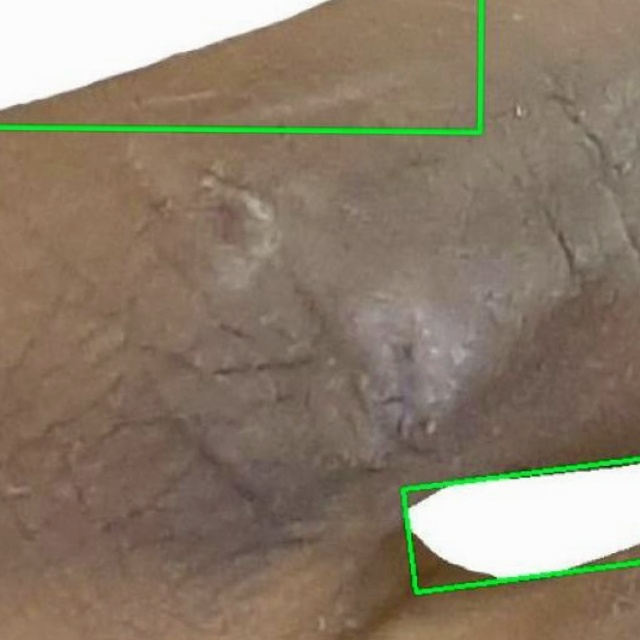Contact Dermatitis: (401, 458, 639, 593)
